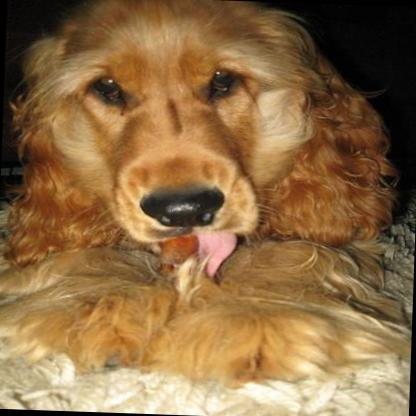cocker_spaniel: (0, 0, 416, 380)
